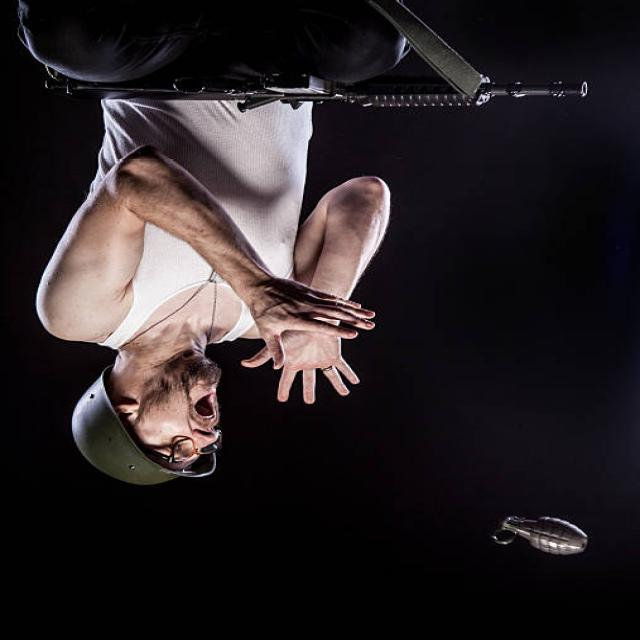grenade: (489, 512, 595, 555)
